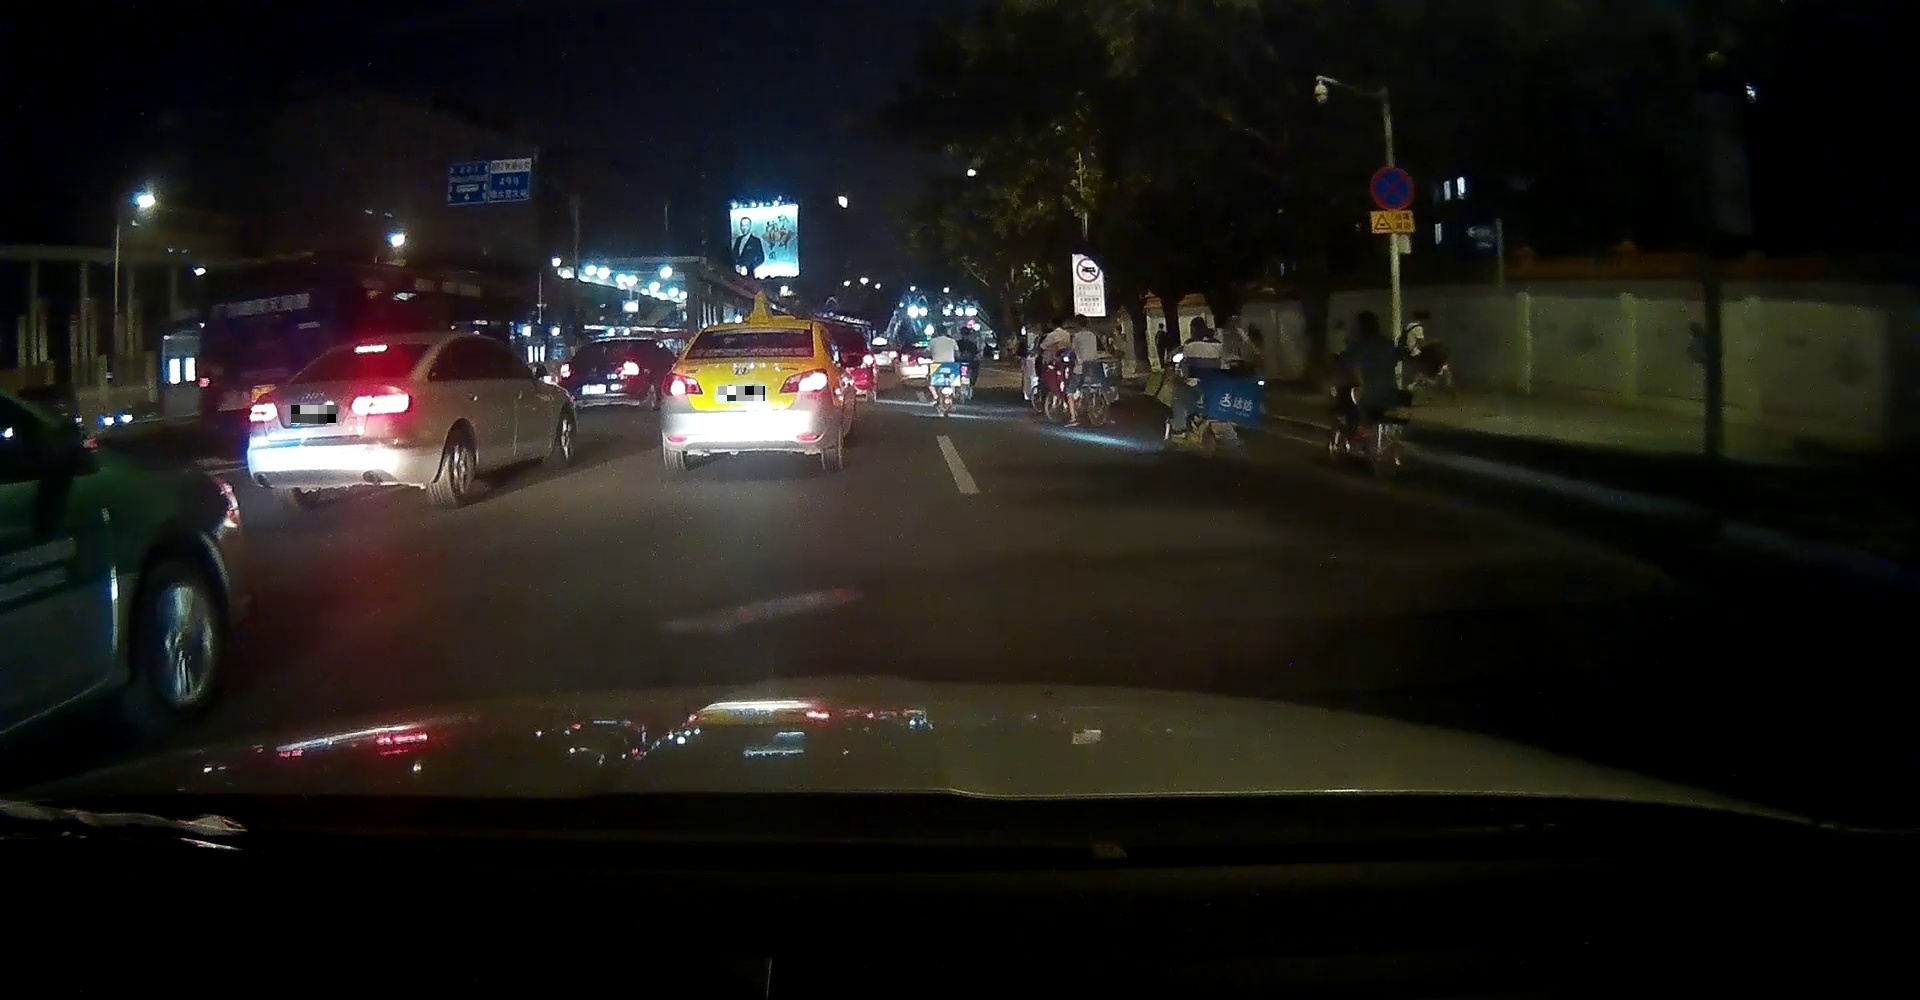L_light: (662, 371, 703, 396), (249, 393, 278, 423), (561, 364, 577, 376)
R_light: (352, 385, 409, 415), (778, 367, 828, 392), (615, 362, 639, 374)
T_light: (356, 345, 387, 353), (739, 350, 766, 357), (607, 341, 621, 344)
night-brake: (246, 332, 436, 509)
night-no: (659, 320, 829, 473), (560, 338, 649, 410)
plate_1: (291, 405, 338, 424)
plate_2: (717, 386, 764, 401)
